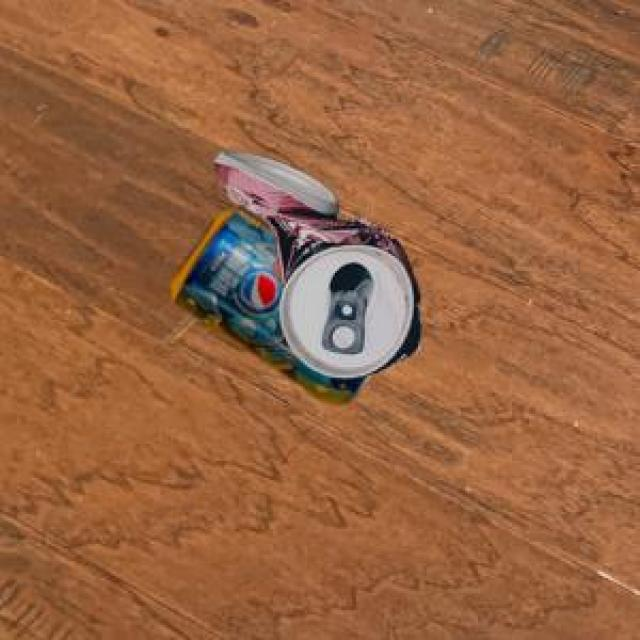Can: (212, 148, 417, 374), (167, 202, 368, 400)
